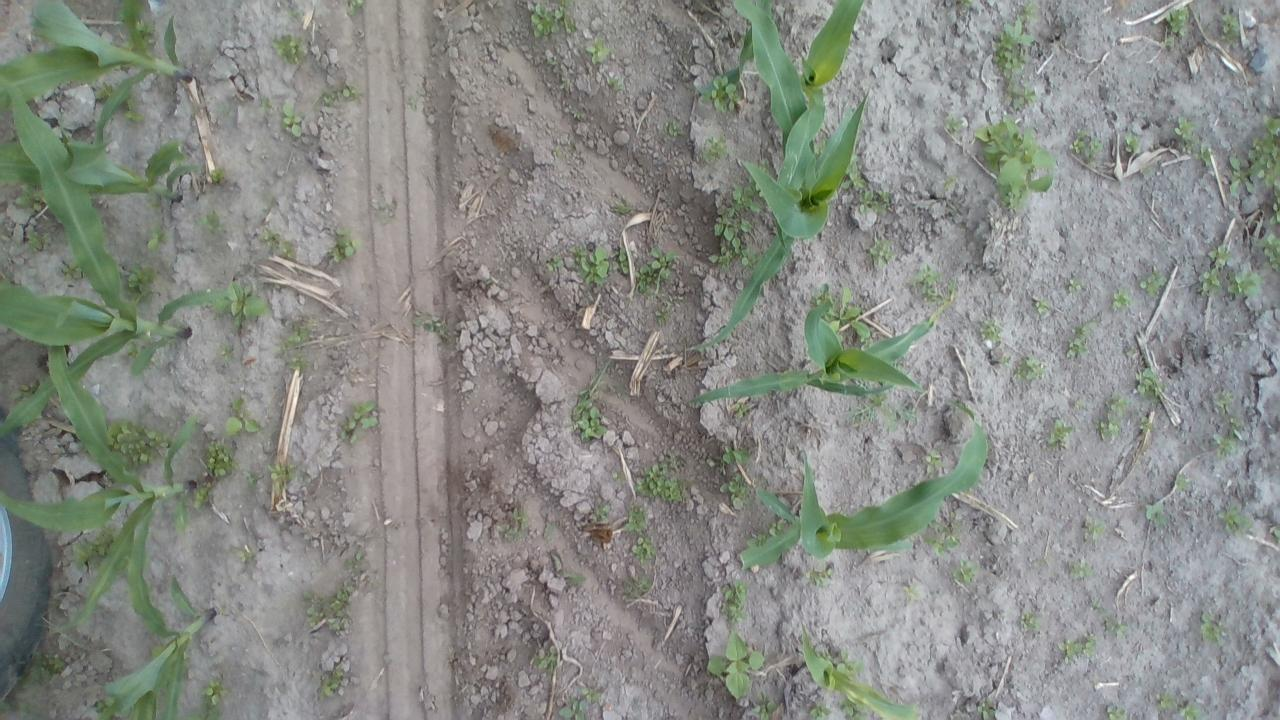Maize: (0, 74, 206, 430), (708, 1, 871, 352), (1, 345, 199, 628), (736, 394, 988, 568), (0, 1, 198, 148), (687, 301, 933, 404), (105, 576, 219, 720), (779, 0, 865, 186), (0, 138, 201, 206), (800, 627, 922, 720), (730, 0, 771, 78)
Weeds: (976, 126, 1051, 209), (304, 545, 370, 634), (704, 631, 764, 706), (710, 181, 760, 269), (1230, 112, 1280, 192), (546, 240, 614, 293), (105, 416, 167, 472), (188, 442, 236, 514), (842, 397, 919, 436), (639, 454, 694, 507), (570, 378, 610, 448), (213, 282, 270, 330), (992, 20, 1038, 75), (636, 244, 684, 296), (846, 163, 892, 212), (829, 288, 870, 338), (1096, 388, 1132, 441), (558, 684, 603, 718), (701, 73, 741, 111), (330, 224, 366, 266), (1054, 631, 1101, 662), (68, 529, 112, 562), (122, 264, 156, 306), (339, 402, 381, 435), (720, 580, 750, 626), (224, 398, 260, 436), (550, 552, 586, 588), (1164, 8, 1194, 50), (20, 654, 70, 678), (278, 33, 312, 68), (1066, 322, 1097, 360), (1254, 231, 1280, 276), (914, 266, 948, 300), (866, 234, 898, 270), (282, 316, 317, 348), (314, 86, 362, 109), (1065, 127, 1099, 159), (924, 532, 962, 560), (315, 667, 347, 700), (1048, 413, 1078, 448), (1220, 505, 1256, 534), (1228, 270, 1265, 298), (529, 1, 557, 38), (1014, 354, 1047, 384), (618, 502, 651, 532), (718, 472, 749, 503), (1132, 365, 1162, 396), (618, 574, 652, 601), (1199, 610, 1224, 646), (700, 136, 729, 166), (1176, 112, 1200, 148), (832, 647, 864, 674), (140, 226, 172, 252), (530, 640, 558, 669), (978, 316, 1010, 341), (1145, 502, 1173, 530), (1211, 390, 1244, 413), (1082, 516, 1112, 541), (282, 102, 304, 136), (200, 676, 226, 704), (556, 1, 578, 34), (1219, 10, 1244, 39), (901, 581, 926, 610), (1198, 268, 1222, 298), (922, 447, 948, 474), (1212, 434, 1240, 459), (584, 42, 612, 67), (589, 497, 614, 524), (838, 702, 872, 720), (722, 443, 751, 464), (1140, 272, 1165, 296), (124, 98, 148, 123), (268, 463, 298, 483), (1070, 561, 1096, 584), (1208, 246, 1232, 270), (12, 184, 36, 208), (730, 400, 759, 419), (755, 695, 777, 720), (1123, 130, 1143, 157), (808, 698, 832, 720), (510, 512, 530, 538), (24, 225, 43, 252), (630, 537, 652, 560), (1021, 611, 1049, 629), (59, 258, 81, 280), (203, 210, 222, 235), (1104, 702, 1130, 720), (1113, 288, 1134, 310), (278, 239, 298, 262), (1137, 412, 1156, 436), (616, 246, 631, 276), (808, 570, 836, 586), (956, 566, 976, 588), (1014, 86, 1036, 106), (662, 118, 684, 138), (974, 700, 996, 720), (1102, 617, 1128, 633), (1036, 294, 1052, 320), (1178, 697, 1196, 720), (944, 116, 964, 136), (181, 710, 221, 720), (99, 699, 118, 720), (236, 544, 258, 562), (218, 342, 236, 364), (1174, 475, 1192, 494), (1020, 1, 1040, 18), (1088, 596, 1108, 613), (344, 0, 370, 13), (94, 82, 115, 98), (1226, 418, 1244, 436), (1154, 690, 1172, 708), (208, 167, 228, 183), (1200, 144, 1214, 166), (610, 200, 632, 214), (769, 519, 787, 535), (261, 228, 283, 241), (1066, 280, 1086, 294), (606, 74, 620, 94), (748, 532, 768, 546), (656, 306, 670, 326), (17, 380, 38, 393), (240, 471, 260, 484), (998, 350, 1014, 366), (258, 93, 273, 109), (126, 341, 141, 357), (1273, 192, 1280, 223), (285, 358, 306, 368), (424, 318, 444, 328), (1270, 524, 1280, 540), (946, 176, 959, 188), (1072, 397, 1085, 407), (961, 0, 976, 8)
